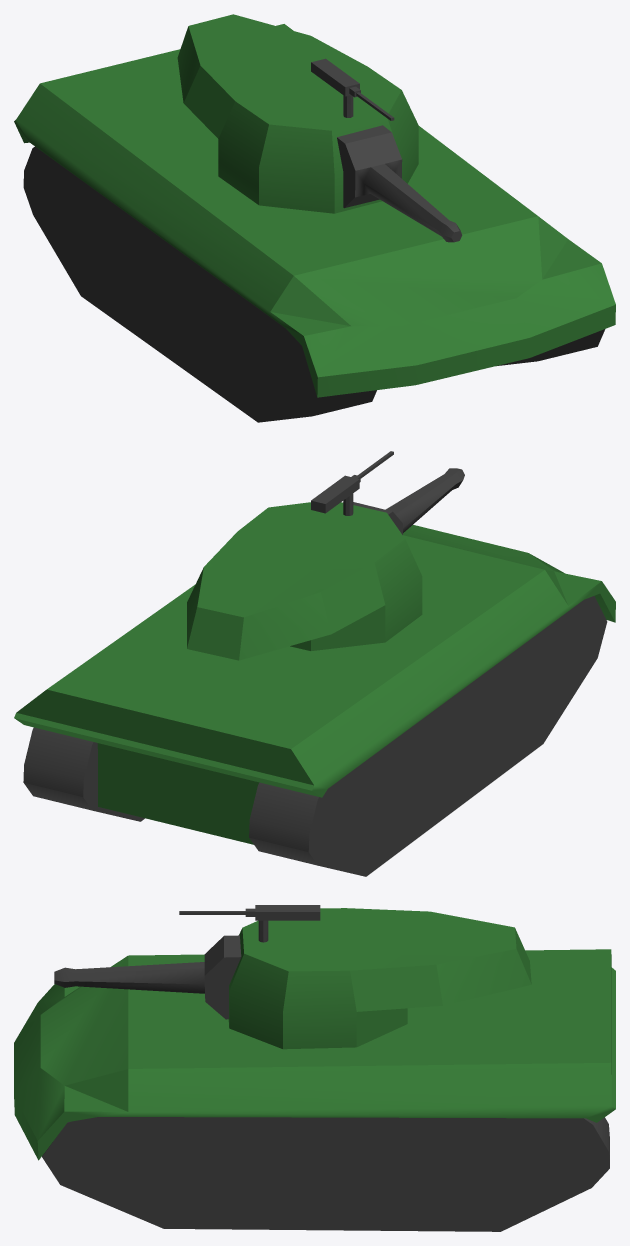
Rendered from M18Hellcat.fbx.
3 views of the same model, one above another, from view 1: azimuth 30°, elevation 25°; view 2: azimuth 150°, elevation 25°; view 3: azimuth 270°, elevation 25° (orthographic). The views are drawn at different scales.
Visible parts, largest first — view 1: Chassis, TreadR, Top, Cannon, MachineGun, TreadL; view 2: Chassis, TreadR, Top, TreadL, Cannon, MachineGun; view 3: Chassis, TreadL, Top, Cannon, MachineGun.
Part boxes in pixels (left/top/right/bottom): Chassis: left=14, top=24, right=615, bottom=397; TreadR: left=23, top=146, right=376, bottom=422; Top: left=177, top=14, right=418, bottom=213; Cannon: left=337, top=125, right=462, bottom=242; MachineGun: left=311, top=58, right=394, bottom=120; TreadL: left=496, top=329, right=605, bottom=366; Chassis: left=14, top=525, right=615, bottom=844; TreadR: left=249, top=596, right=607, bottom=876; Top: left=187, top=502, right=422, bottom=660; TreadL: left=23, top=727, right=144, bottom=821; Cannon: left=353, top=468, right=464, bottom=534; MachineGun: left=311, top=451, right=393, bottom=515; Chassis: left=14, top=949, right=615, bottom=1160; TreadL: left=42, top=1117, right=609, bottom=1231; Top: left=228, top=908, right=531, bottom=1049; Cannon: left=54, top=935, right=241, bottom=1019; MachineGun: left=179, top=905, right=320, bottom=942.
Bounding box in the file's own units: 2.57 × 2.23 × 4.73.
